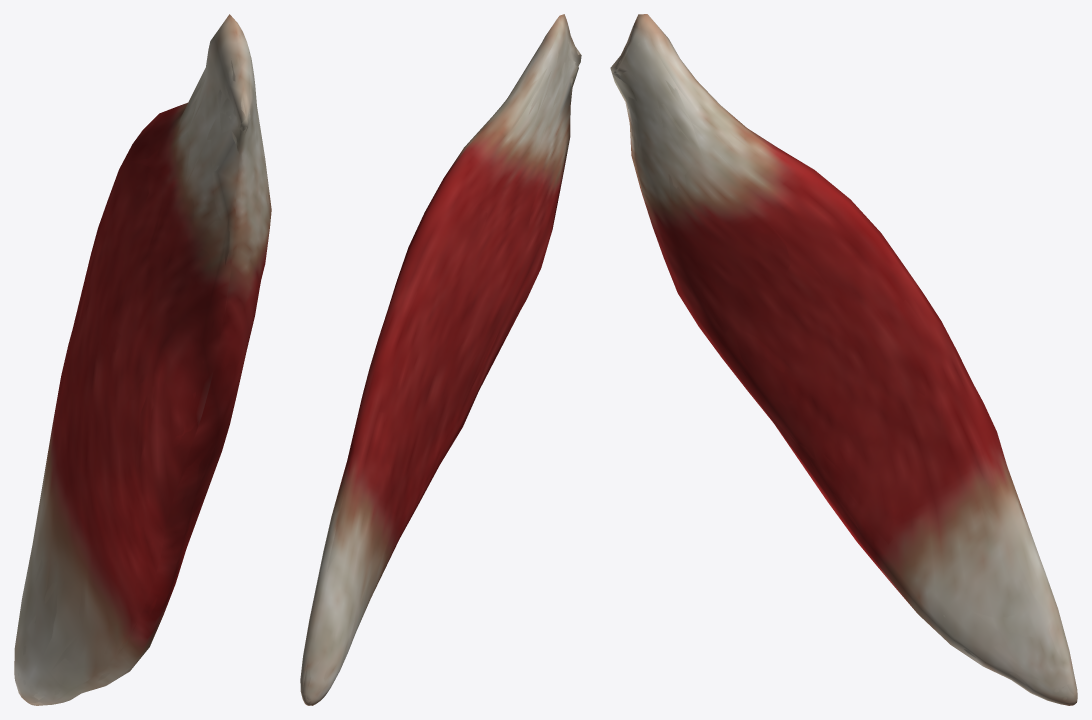
File: L Triceps brachii caput laterale.fbx
3 views of the same model, side by side, from view 1: azimuth 30°, elevation 25°; view 2: azimuth 150°, elevation 25°; view 3: azimuth 270°, elevation 25° (orthographic). The views are drawn at different scales.
Visible parts, largest first — view 1: L Triceps brachii caput laterale, L Triceps brachii caput laterale low, L Triceps brachii caput laterale high; view 2: L Triceps brachii caput laterale, L Triceps brachii caput laterale low, L Triceps brachii caput laterale high; view 3: L Triceps brachii caput laterale, L Triceps brachii caput laterale low, L Triceps brachii caput laterale high.
Part boxes in pixels (x1,y1,x2,y2): L Triceps brachii caput laterale: (14, 14, 271, 705); L Triceps brachii caput laterale low: (15, 17, 271, 705); L Triceps brachii caput laterale high: (15, 35, 268, 700); L Triceps brachii caput laterale: (300, 14, 580, 705); L Triceps brachii caput laterale low: (300, 15, 581, 705); L Triceps brachii caput laterale high: (304, 37, 578, 704); L Triceps brachii caput laterale: (611, 14, 1077, 705); L Triceps brachii caput laterale low: (610, 15, 1077, 705); L Triceps brachii caput laterale high: (619, 26, 1071, 700).
Size of the model in its own units: 0.9932 by 6.36 by 4.11.
